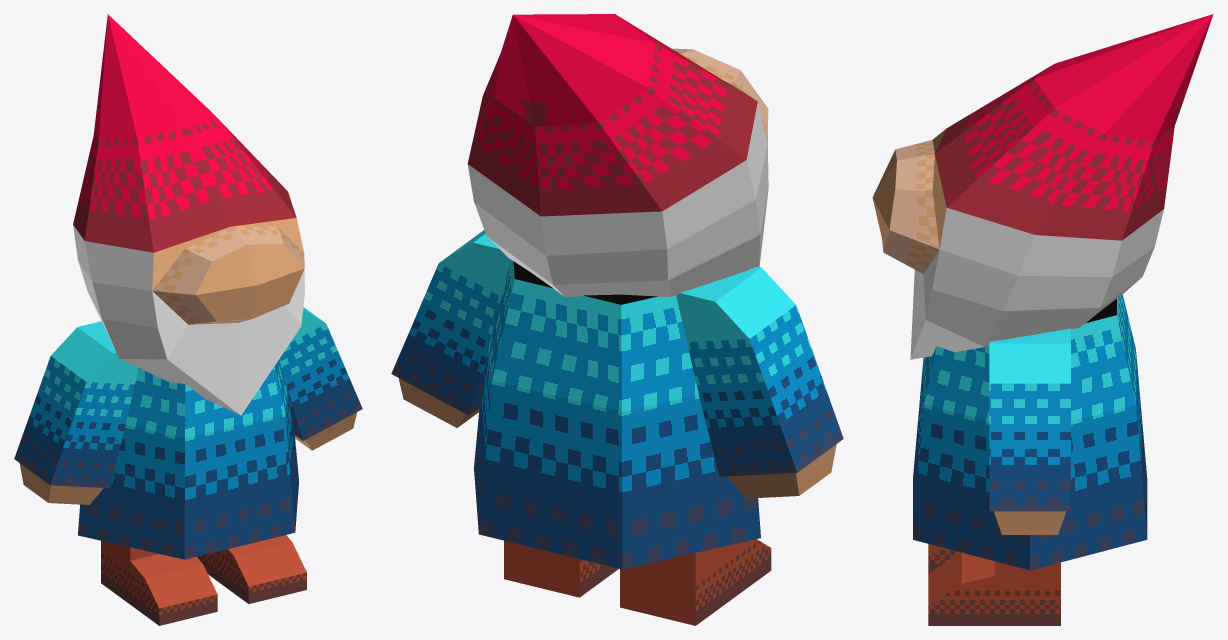
The model's file is GNOMO.fbx.
3 renders of one model, left to right at view 1: azimuth 30°, elevation 25°; view 2: azimuth 150°, elevation 25°; view 3: azimuth 270°, elevation 25°, orthographic. The views are drawn at different scales.
Parts seen in each view (by area): view 1: Head, BODY, ARM_R, ARM_L, Leg_R, Leg_L; view 2: Head, BODY, ARM_R, ARM_L, Leg_R, Leg_L; view 3: Head, BODY, ARM_L, Leg_L, Leg_R.
Boxes of the visible parts, bbox=[...] form: Head: bbox=[73, 14, 304, 415]; BODY: bbox=[78, 358, 298, 559]; ARM_R: bbox=[14, 321, 138, 504]; ARM_L: bbox=[280, 307, 362, 450]; Leg_R: bbox=[101, 541, 217, 625]; Leg_L: bbox=[197, 535, 306, 603]; Head: bbox=[467, 14, 768, 296]; BODY: bbox=[474, 260, 760, 569]; ARM_R: bbox=[676, 266, 843, 498]; ARM_L: bbox=[391, 230, 510, 427]; Leg_R: bbox=[620, 539, 771, 625]; Leg_L: bbox=[504, 540, 618, 597]; Head: bbox=[872, 14, 1213, 359]; BODY: bbox=[913, 294, 1147, 570]; ARM_L: bbox=[989, 328, 1070, 534]; Leg_L: bbox=[928, 552, 1060, 625]; Leg_R: bbox=[928, 544, 959, 573].
Size of the model in its own units: 50.99 by 78.23 by 42.34.
